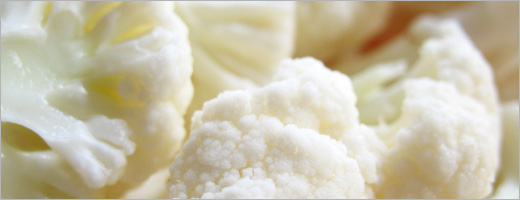cauliflower: (0, 0, 194, 186), (165, 53, 368, 199), (359, 17, 501, 199), (171, 0, 298, 136)
